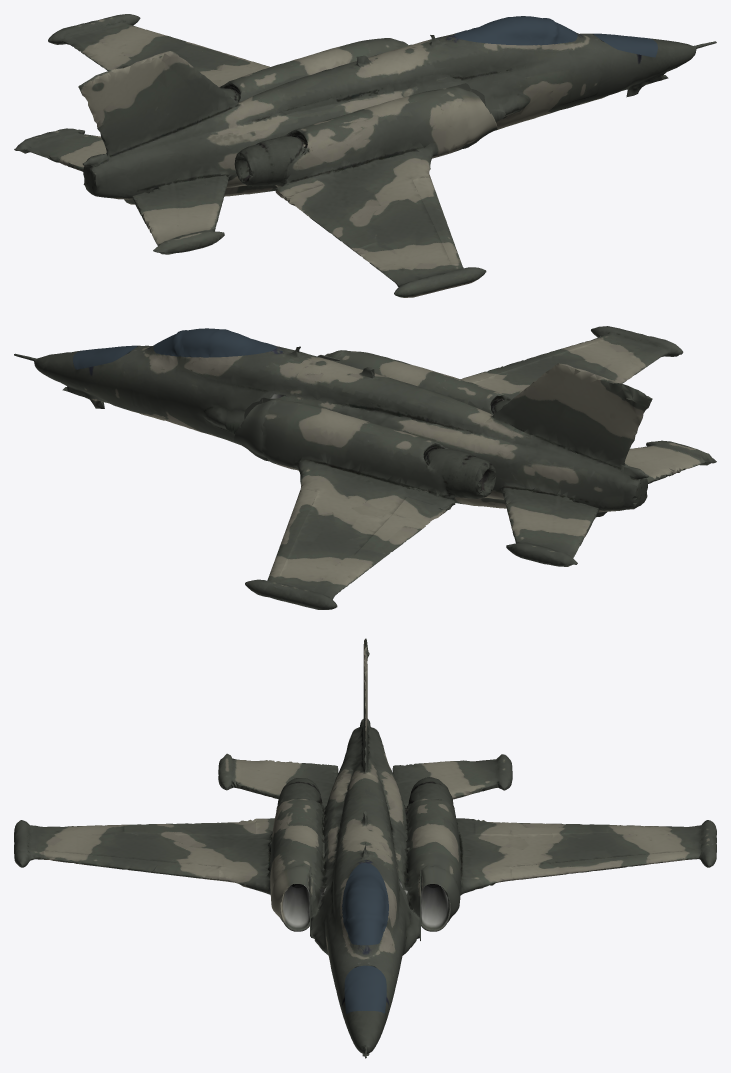
The model's file is fh_battle_attacker_2.glb.
3 views of the same model, one above another, from view 1: azimuth 30°, elevation 25°; view 2: azimuth 150°, elevation 25°; view 3: azimuth 270°, elevation 25° (orthographic).
Parts seen in each view (by area): view 1: fh_battle_attacker_2; view 2: fh_battle_attacker_2; view 3: fh_battle_attacker_2.
Boxes of the visible parts, bbox=[...] form: fh_battle_attacker_2: bbox=[14, 14, 716, 297]; fh_battle_attacker_2: bbox=[14, 326, 716, 609]; fh_battle_attacker_2: bbox=[14, 638, 716, 1058].
Bounding box in the file's own units: 1 × 0.2464 × 0.9616.
Materials: 2 (1 with a texture image).
